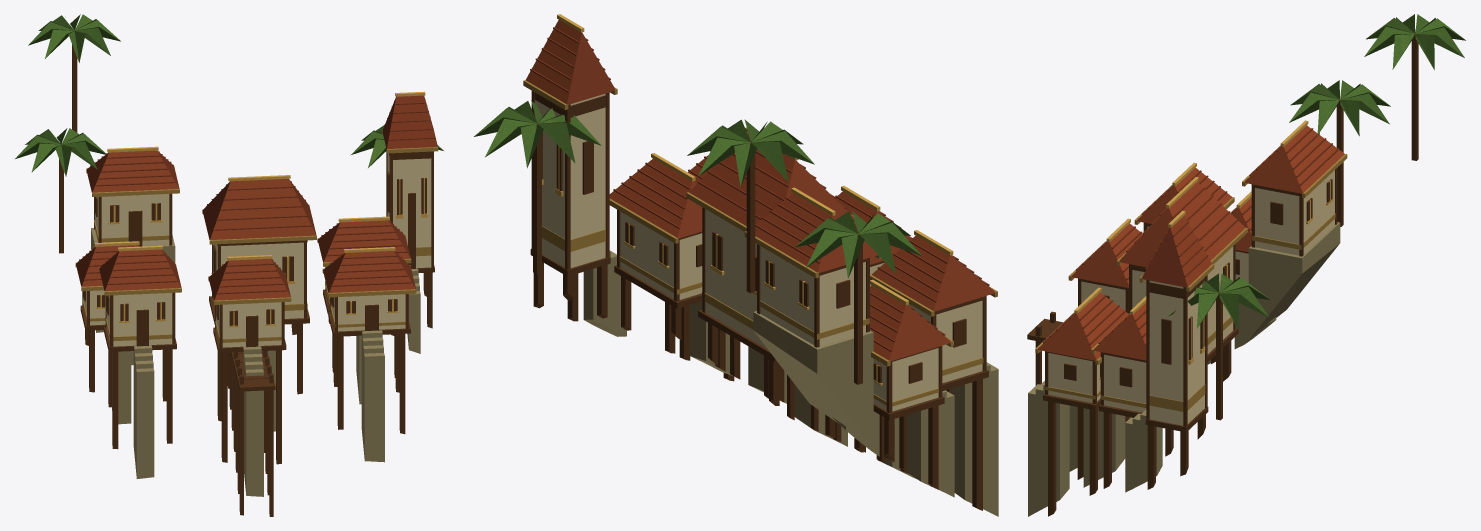
Rendered from ambon.obj.
3 views of the same model, side by side, from view 1: azimuth 30°, elevation 25°; view 2: azimuth 150°, elevation 25°; view 3: azimuth 270°, elevation 25° (orthographic). The views are drawn at different scales.
Parts seen in each view (by area): view 1: ambon; view 2: ambon; view 3: ambon.
Boxes of the visible parts, x1,y1,x2,y2 form: ambon: (15,14,443,516); ambon: (474,14,998,516); ambon: (1027,14,1465,516).
Bounding box in the file's own units: 14.56 × 14.72 × 13.18.
